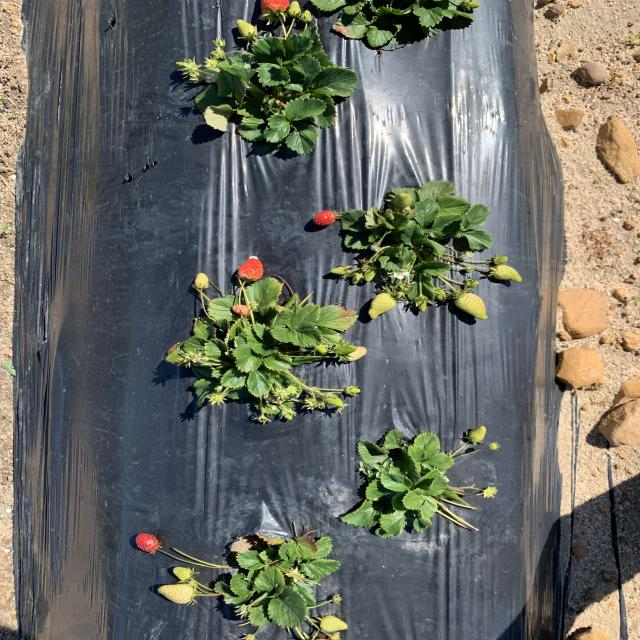unripe: (237, 256, 267, 280), (134, 533, 160, 553), (260, 0, 291, 14), (314, 211, 338, 227)
